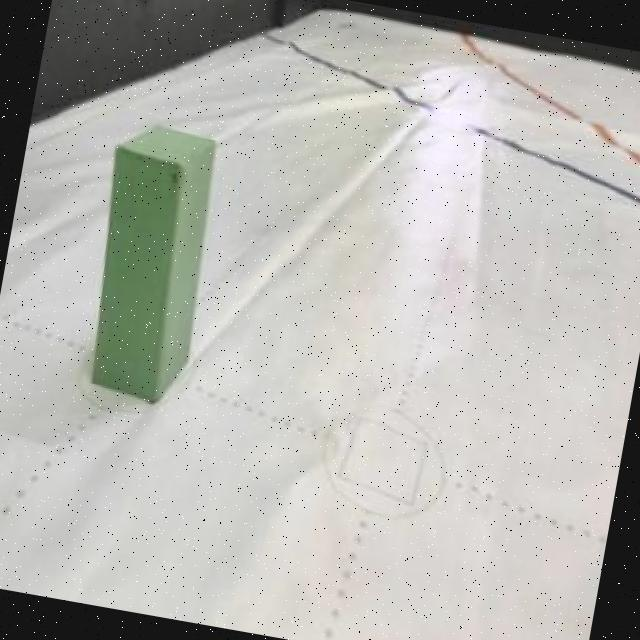greenbox: (72, 116, 226, 410)
